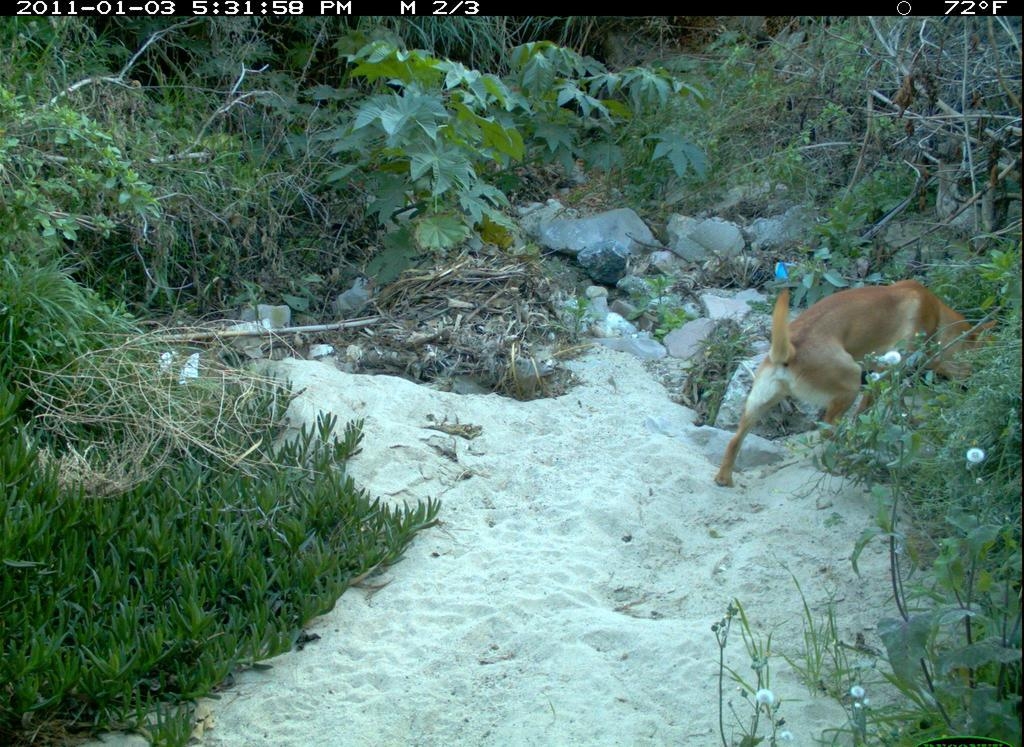dog: (708, 267, 1008, 504)
